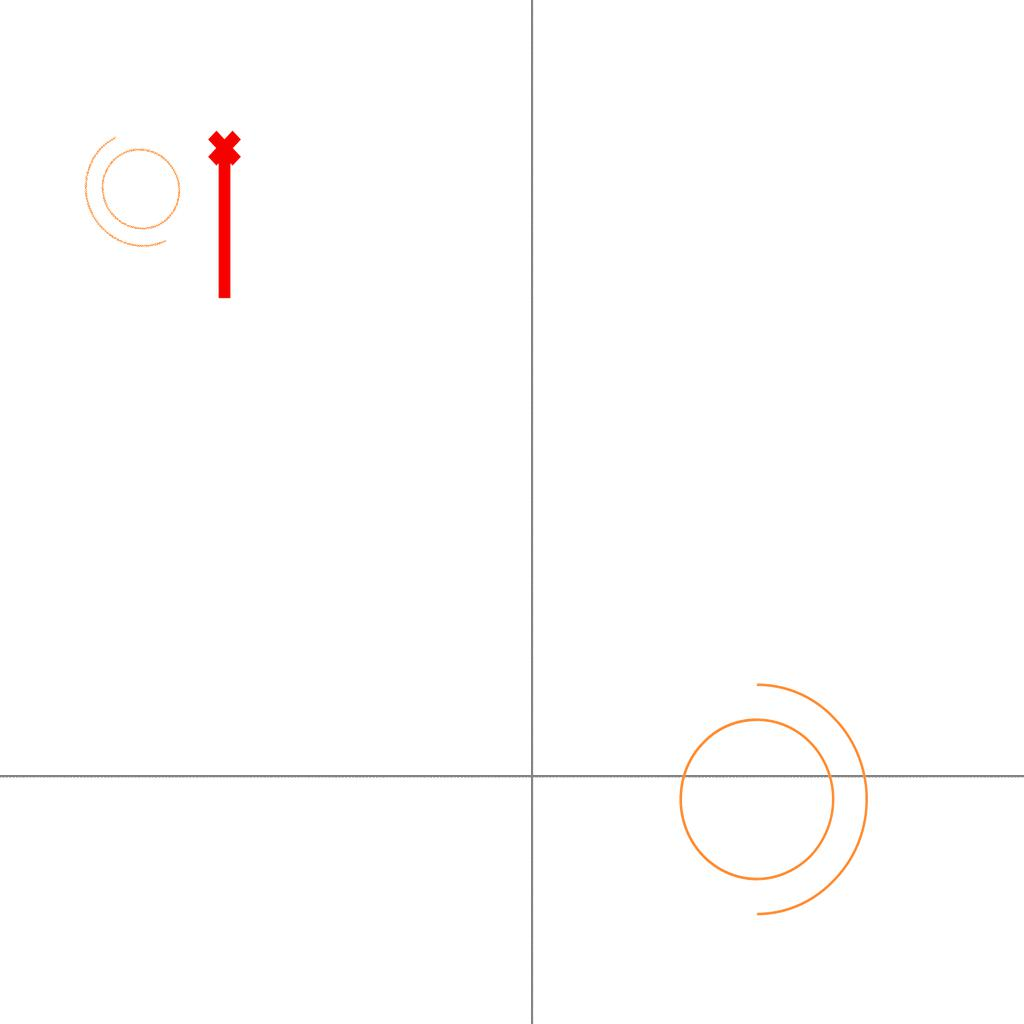ASR_Ansaugoeffnung: (204, 128, 250, 304)
Scheinwerfer_fuer_Alarmbeleuchtung: (654, 661, 879, 925), (58, 110, 218, 278)
